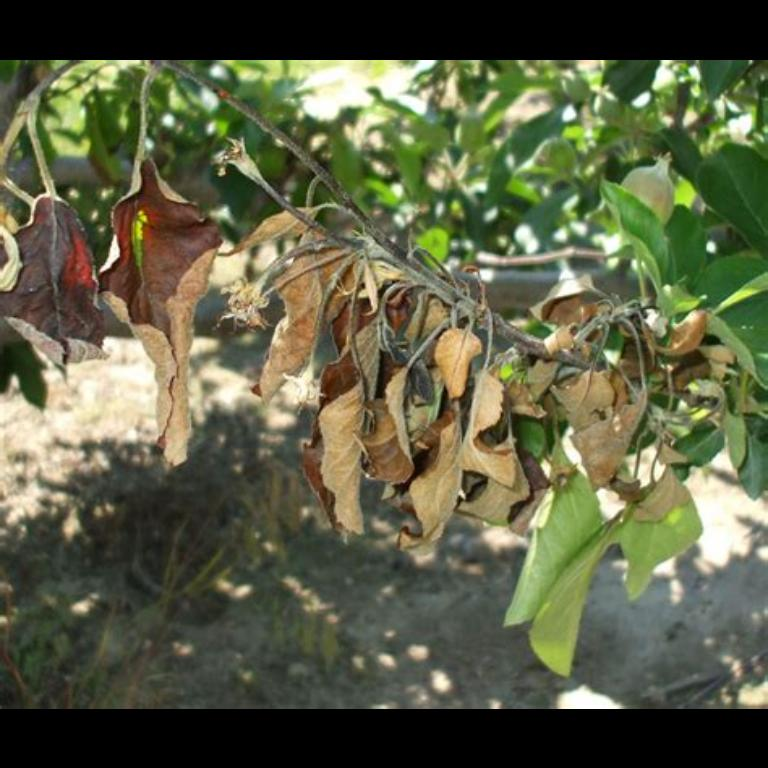blight: (112, 176, 208, 386), (312, 341, 372, 515)
